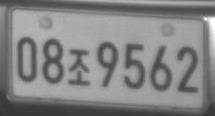0: (15, 36, 39, 82)
2: (175, 45, 199, 94)
5: (122, 42, 147, 90)
6: (149, 44, 173, 92)
8: (41, 37, 65, 84)
9: (96, 41, 120, 88)
조: (67, 47, 91, 88)
